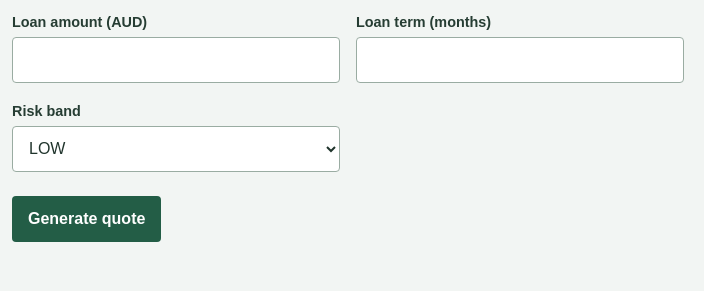
Scenario: LoanQuoteForm › rejects invalid loan term 0
The image size is (704, 291).
In the number field labelled "Loan amount (AUD)": (176, 60) [12,37,340,83], type "1000"
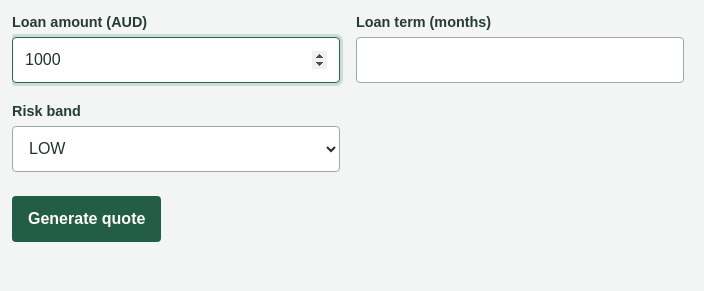
In the number field labelled "Loan term (months)": (520, 60) [356,37,684,83], type "0"
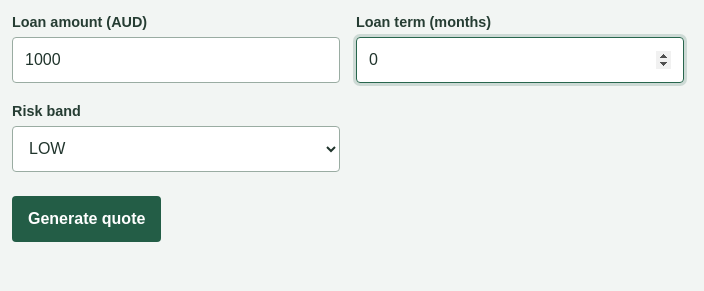
Click the button "Generate quote": (87, 219) [12,196,161,242]
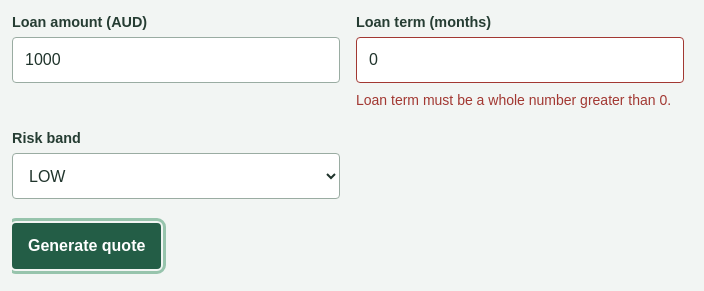
Check: the text "Loan term must be a whole number greater than 0." is shown, box [356,90,684,110]
